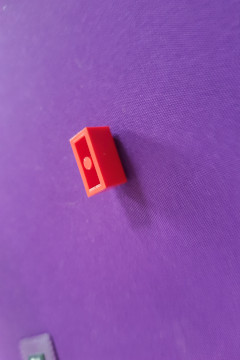1x2 red: (67, 126, 131, 196)
